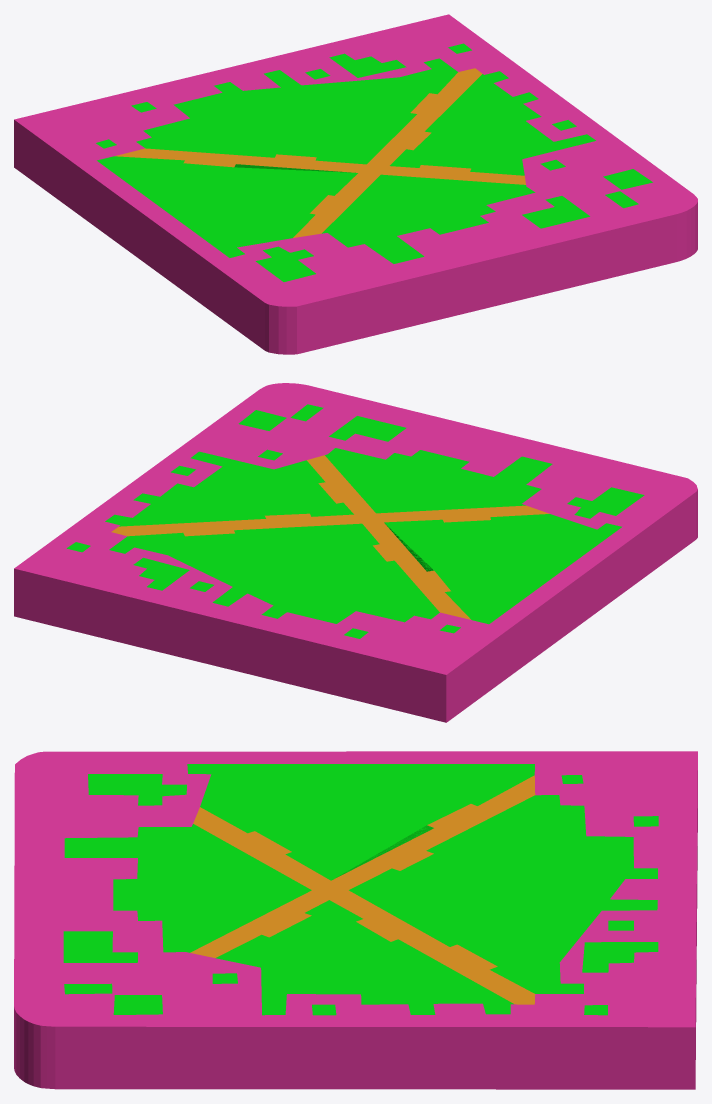
File: currentpark2.fbx
The picture shows the model from 3 angles, top to bottom: view 1: azimuth 30°, elevation 25°; view 2: azimuth 150°, elevation 25°; view 3: azimuth 270°, elevation 25°; orthographic projection. The views are drawn at different scales.
Parts seen in each view (by area): view 1: Solid, Solid.001; view 2: Solid, Solid.001; view 3: Solid, Solid.001.
Part boxes in pixels (x1,y1,x2,y2): Solid: (14, 14, 697, 354); Solid.001: (96, 43, 652, 281); Solid: (14, 383, 697, 722); Solid.001: (66, 404, 644, 638); Solid: (14, 751, 697, 1089); Solid.001: (63, 764, 658, 1015).
Size of the model in its own units: 244 by 25.73 by 255.
